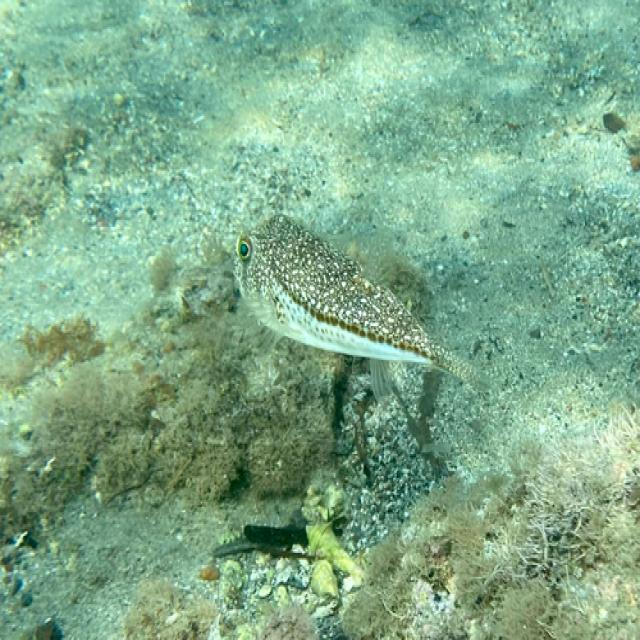Balik: (236, 216, 482, 395)
